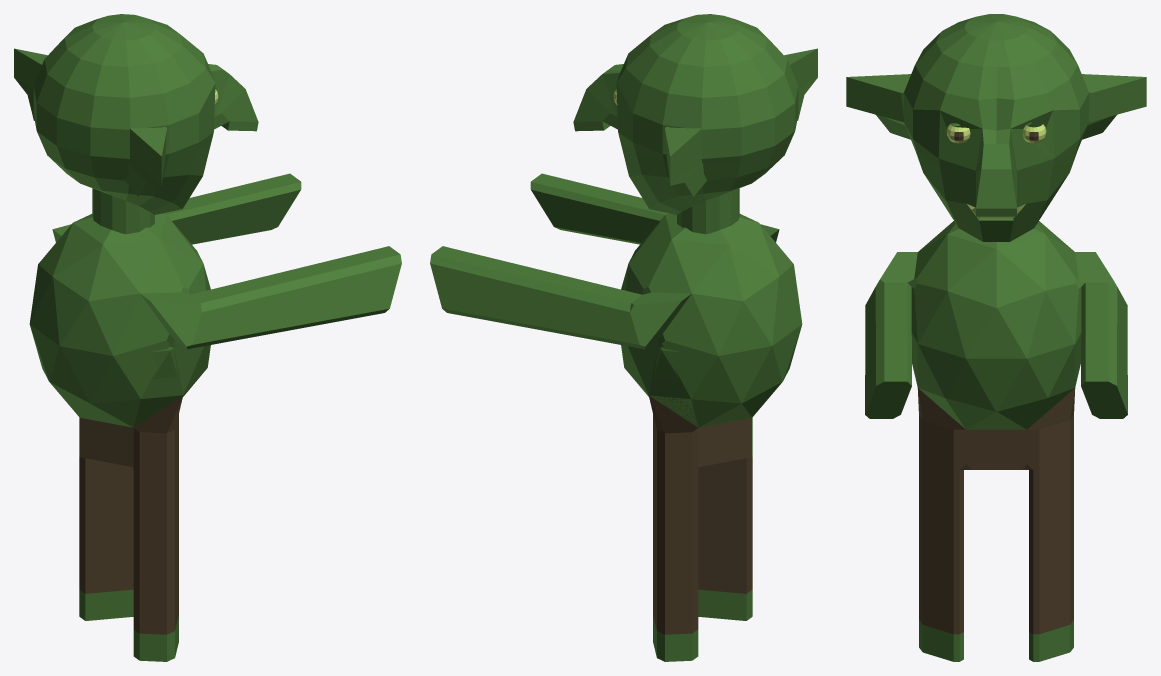
File: FantasyGoblin.fbx
3 renders of one model, left to right at view 1: azimuth 30°, elevation 25°; view 2: azimuth 150°, elevation 25°; view 3: azimuth 270°, elevation 25°, orthographic.
Parts seen in each view (by area): view 1: Jew; view 2: Jew; view 3: Jew.
Boxes of the visible parts, box(x1,y1,x2,y2) form: Jew: box(14, 14, 401, 661); Jew: box(430, 14, 817, 661); Jew: box(846, 14, 1146, 661).
Size of the model in its own units: 375 by 731 by 319.
